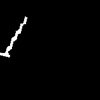half_double_crochet: (0, 17, 26, 56)
